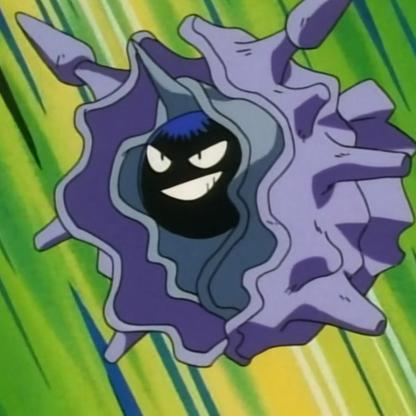Cloyster: (13, 2, 416, 369)
